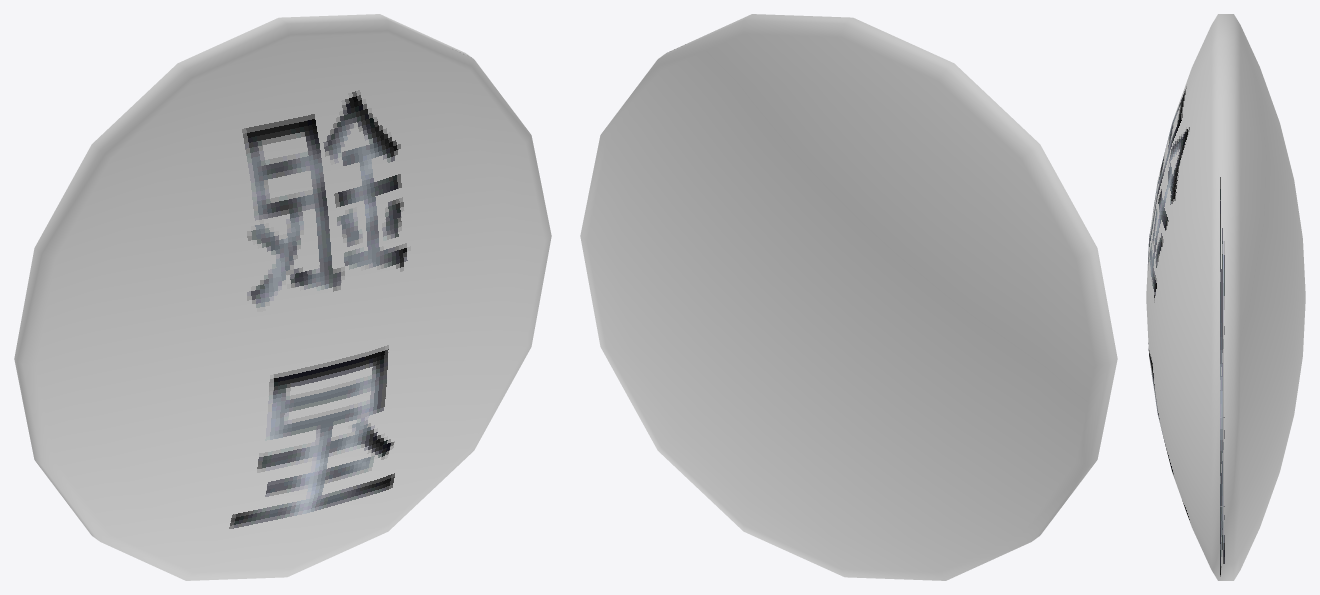
The model's file is ps2_save-icons_sekaisaikyouginseiigo5.glb.
The picture shows the model from 3 angles, left to right: view 1: azimuth 30°, elevation 25°; view 2: azimuth 150°, elevation 25°; view 3: azimuth 270°, elevation 25°; orthographic projection. The views are drawn at different scales.
Visible parts, largest first — view 1: GO1.ICO; view 2: GO1.ICO; view 3: GO1.ICO.
Part boxes in pixels (<box>): GO1.ICO: <box>14,14,551,580</box>; GO1.ICO: <box>580,14,1117,580</box>; GO1.ICO: <box>1146,14,1305,580</box>.
Bounding box in the file's own units: 4 × 4 × 1.12.
Materials: 1 (1 with a texture image).
